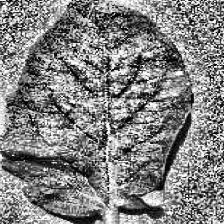spider mites: (67, 0, 190, 209)
